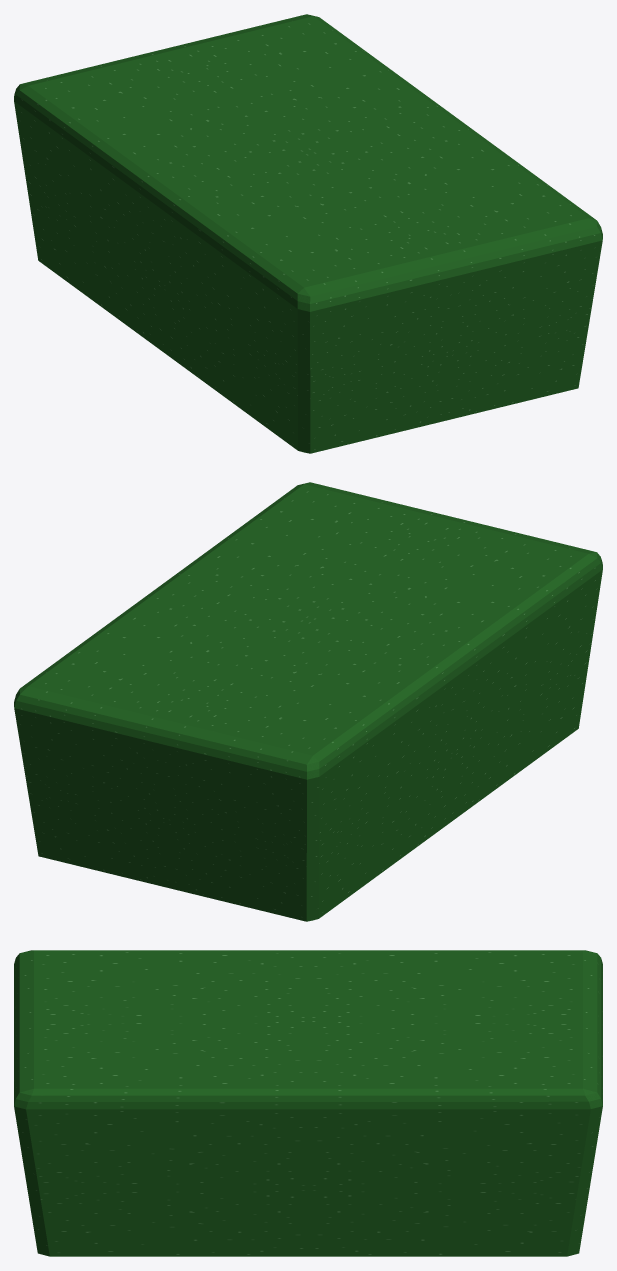
File: hedge.fbx
The picture shows the model from 3 angles, top to bottom: view 1: azimuth 30°, elevation 25°; view 2: azimuth 150°, elevation 25°; view 3: azimuth 270°, elevation 25°; orthographic projection.
Parts seen in each view (by area): view 1: Cube; view 2: Cube; view 3: Cube.
Boxes of the visible parts, left/top/right/bottom form: Cube: left=14, top=14, right=602, bottom=453; Cube: left=14, top=482, right=602, bottom=921; Cube: left=14, top=950, right=602, bottom=1256.
Bounding box in the file's own units: 592 × 321 × 993.
